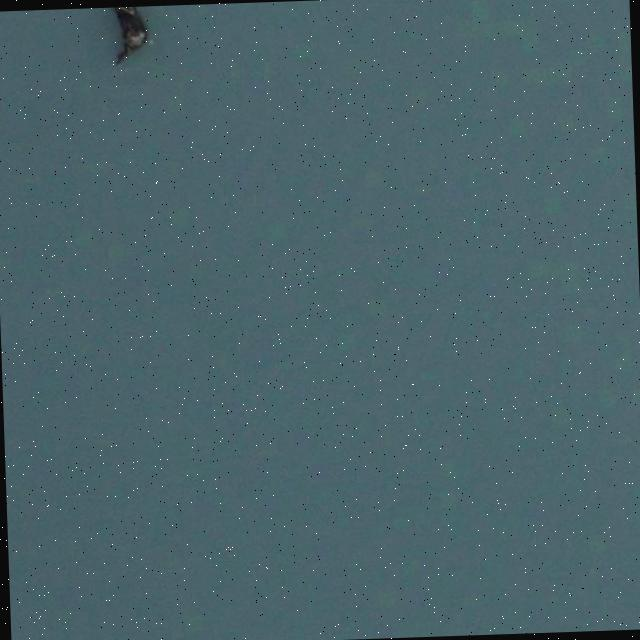seal: (113, 6, 145, 63)
